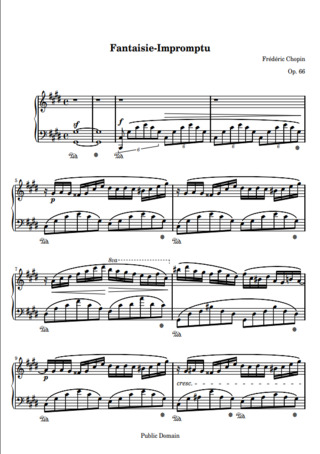Partitura: (10, 40, 310, 439)
